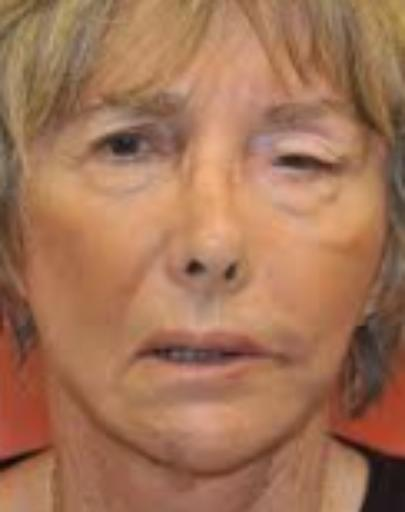left_eye: (270, 152, 339, 183)
left_lip_corner: (256, 344, 291, 369)
right_eye: (89, 126, 175, 168)
right_lip_corner: (123, 340, 162, 369)
